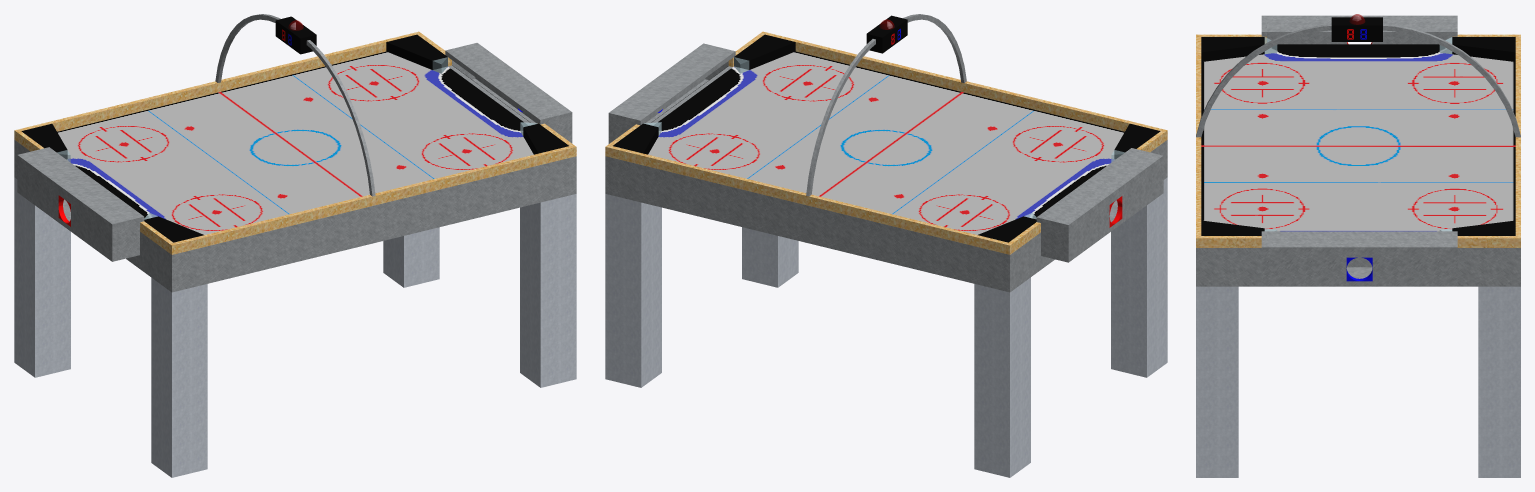
Rendered from TableP_2.FBX.
3 views of the same model, side by side, from view 1: azimuth 30°, elevation 25°; view 2: azimuth 150°, elevation 25°; view 3: azimuth 270°, elevation 25° (orthographic). The views are drawn at different scales.
Visible parts, largest first — view 1: Layer0_001; view 2: Layer0_001; view 3: Layer0_001.
Boxes of the visible parts, x1,y1,x2,y2 form: Layer0_001: [14, 14, 576, 477]; Layer0_001: [605, 14, 1167, 477]; Layer0_001: [1196, 14, 1520, 477].
Size of the model in its own units: 2604 by 1898 by 1544.
9 materials, 5 textured.
